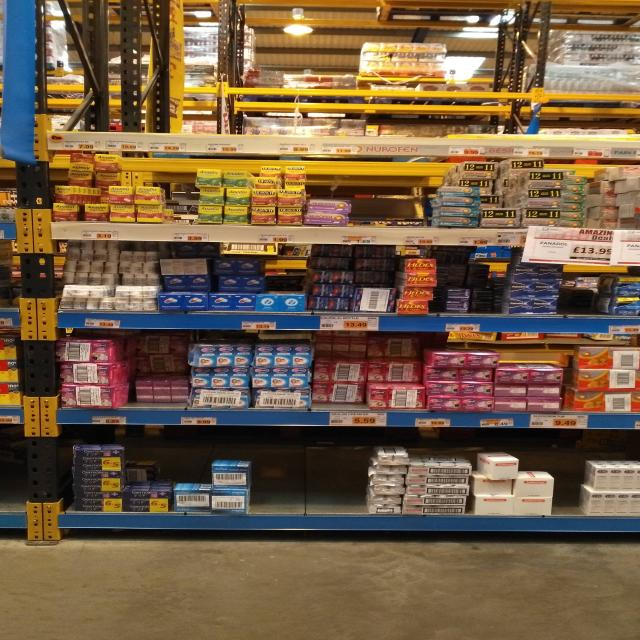void: (574, 163, 640, 261), (322, 432, 364, 529), (280, 431, 320, 529), (247, 428, 282, 528), (394, 164, 436, 246), (554, 435, 588, 532), (352, 163, 392, 245), (564, 27, 604, 102), (521, 28, 561, 99), (482, 29, 522, 96), (92, 97, 142, 150), (404, 100, 450, 156), (46, 94, 90, 151), (606, 27, 640, 100), (312, 100, 356, 156), (268, 99, 312, 155), (359, 100, 402, 156), (489, 103, 534, 156), (448, 28, 482, 97), (448, 100, 489, 156), (140, 98, 182, 152), (182, 98, 222, 154), (228, 99, 268, 153), (574, 103, 610, 161), (240, 42, 280, 94), (279, 42, 315, 98), (566, 279, 602, 334), (317, 42, 353, 97), (537, 102, 570, 156), (612, 100, 640, 160)
